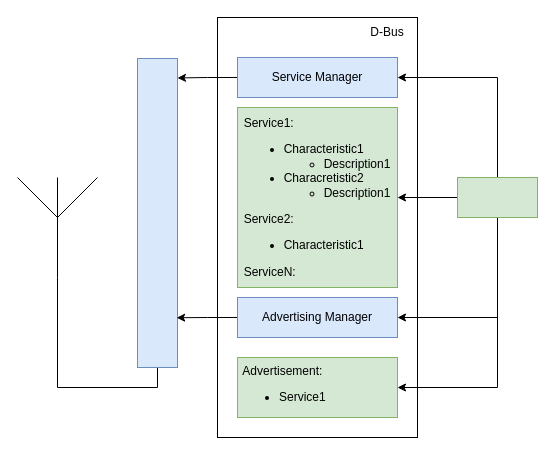
Image size: 555x455. Some labels were removed from this diagram. The box of each missing label's shape, as (x1, y1, x2, y2) in pixels:
Application: (456, 176, 538, 218)
bluez: (136, 58, 178, 368)
